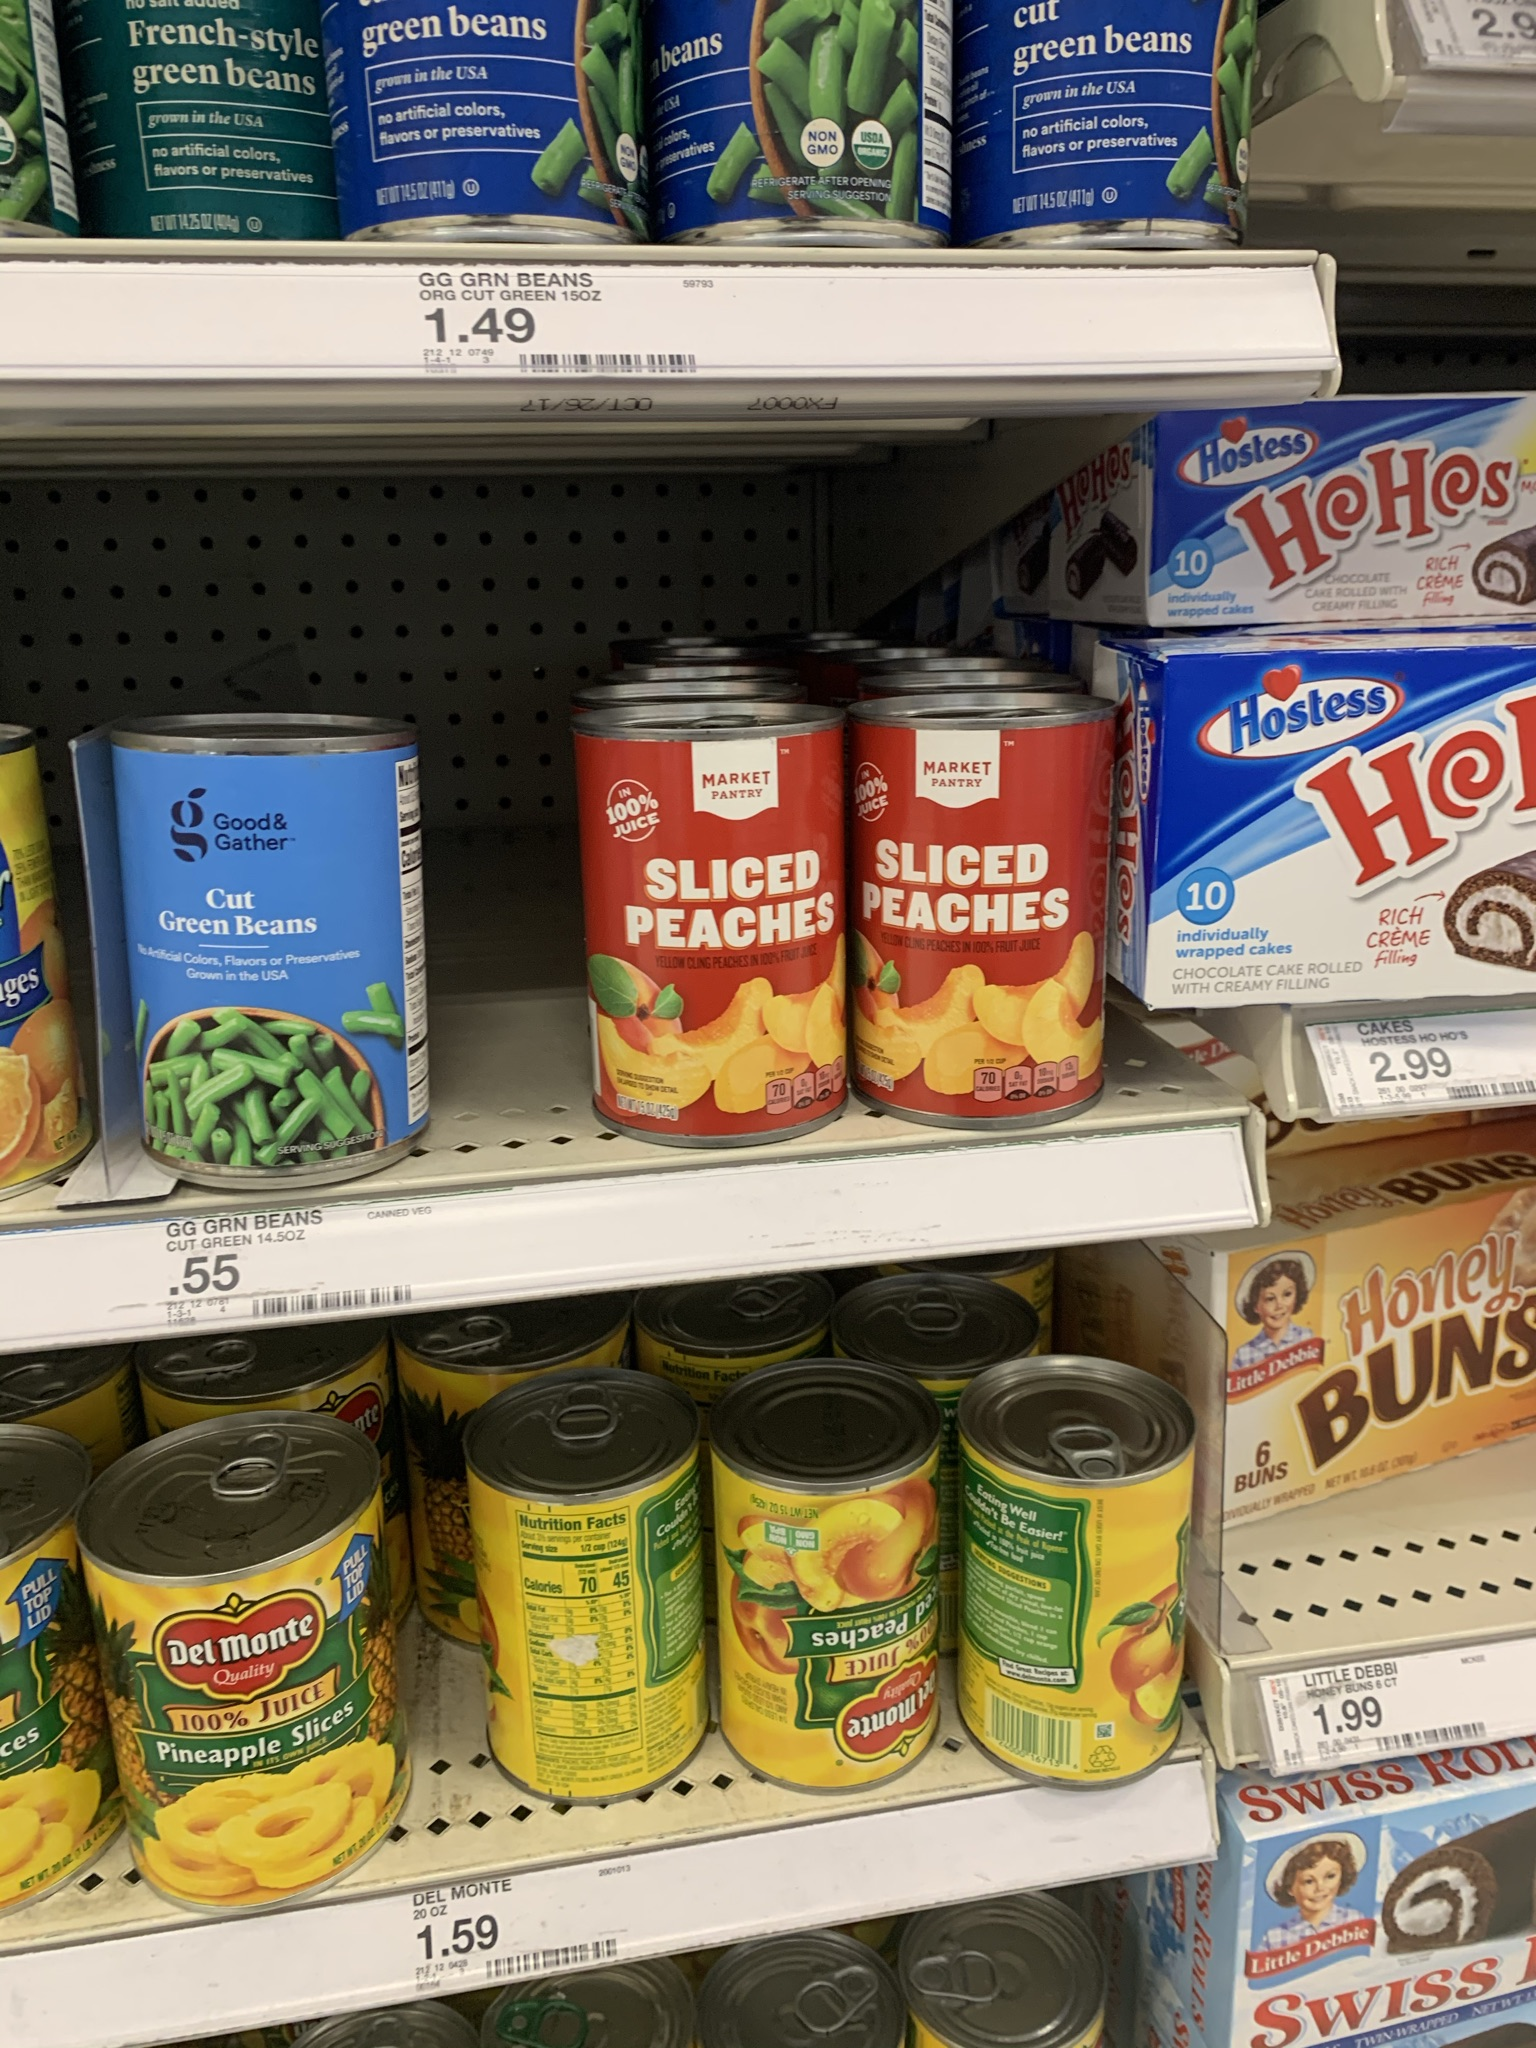box: (1165, 660, 1536, 1000), (1249, 1832, 1536, 2038)
can: (124, 735, 419, 1150), (123, 1480, 381, 1858), (599, 734, 836, 1121), (863, 727, 1099, 1105), (482, 1421, 691, 1775), (721, 1434, 939, 1759), (966, 1419, 1183, 1746)
